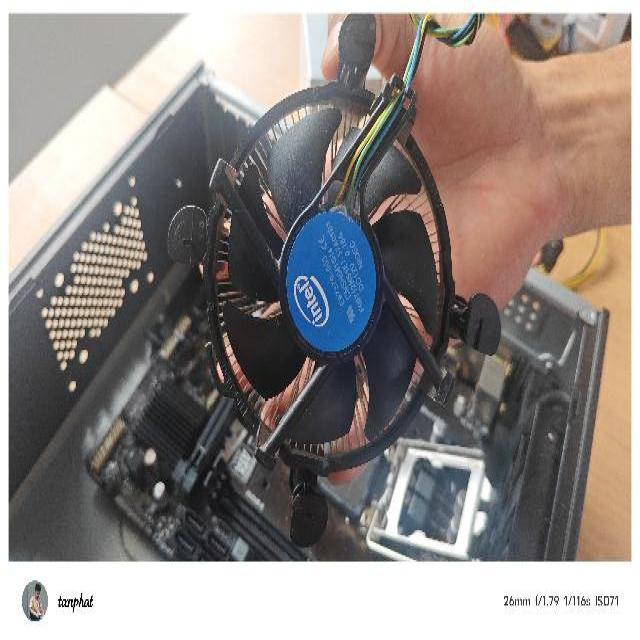CPU_Fan: (164, 15, 503, 551)
